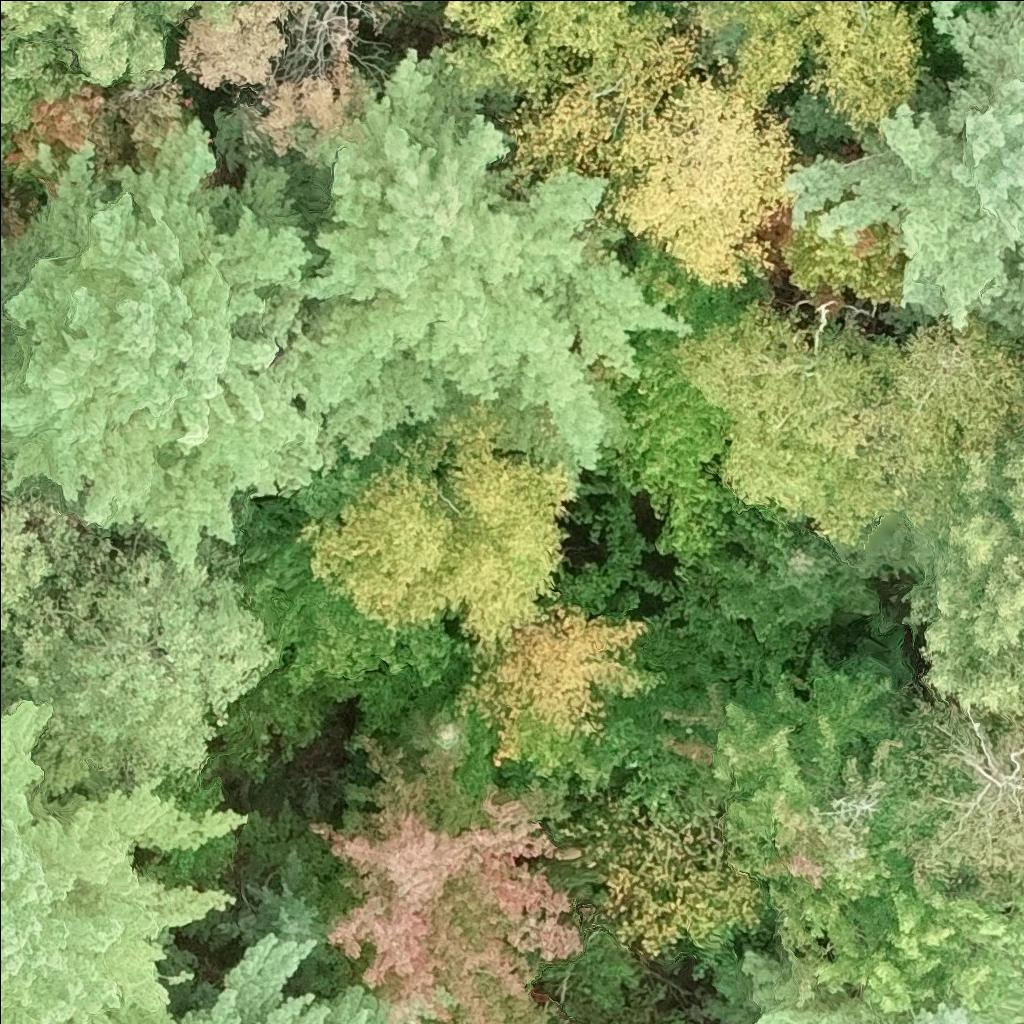crown: (273, 49, 688, 465), (0, 123, 333, 566), (511, 0, 797, 290), (786, 0, 1023, 342), (311, 731, 585, 1023), (0, 505, 273, 795), (0, 706, 243, 1023), (718, 651, 921, 963), (310, 419, 575, 643), (668, 300, 915, 534), (782, 862, 1023, 1023), (453, 605, 660, 777), (671, 0, 923, 138), (906, 430, 1023, 714), (885, 322, 1023, 542), (888, 695, 1023, 888), (437, 0, 676, 93), (0, 0, 249, 81), (721, 529, 882, 639), (181, 936, 383, 1023), (781, 211, 907, 303), (0, 9, 67, 159), (747, 957, 869, 1023), (858, 504, 946, 579), (912, 977, 1023, 1023)
